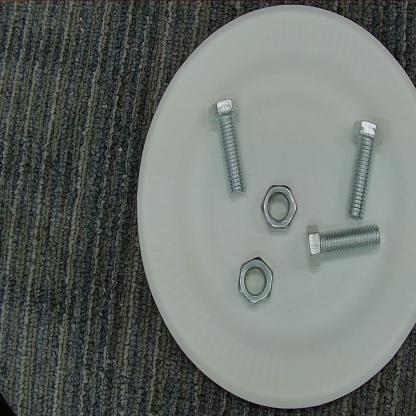FOD: (203, 94, 250, 200), (344, 116, 387, 221), (302, 219, 386, 272), (236, 251, 274, 313), (258, 179, 300, 235)
